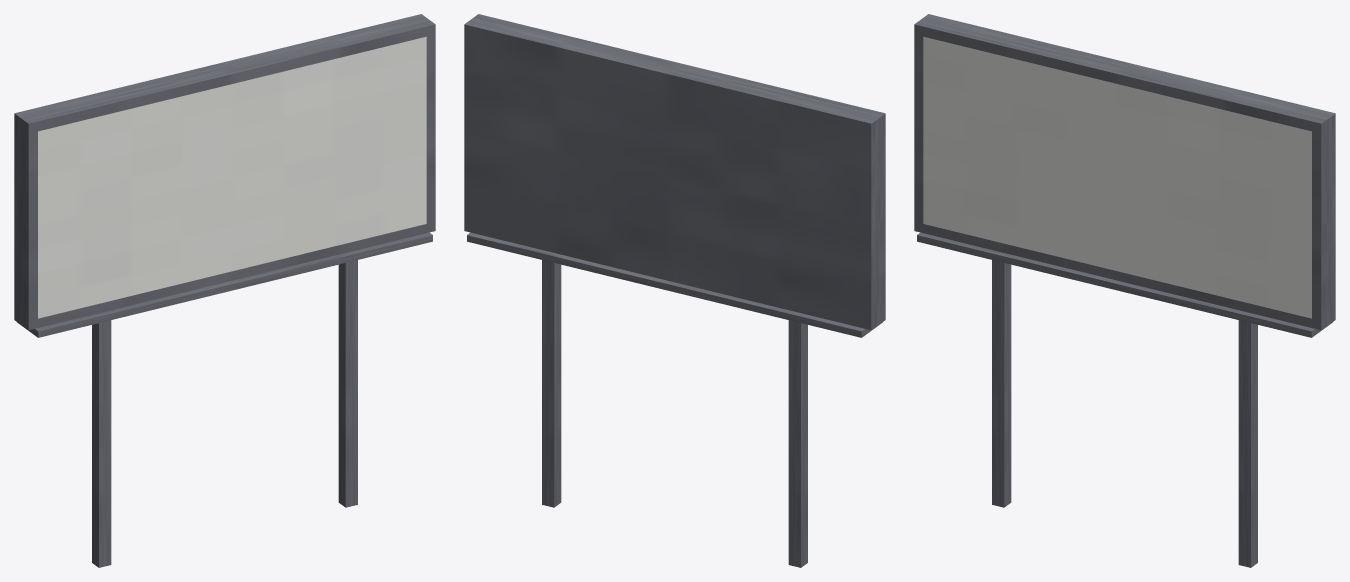
File: billboard-cream-far.glb
The picture shows the model from 3 angles, left to right: view 1: azimuth 30°, elevation 25°; view 2: azimuth 150°, elevation 25°; view 3: azimuth 330°, elevation 25°; orthographic projection.
Visible parts, largest first — view 1: sign_1, billboard-cream-far; view 2: billboard-cream-far; view 3: sign_1, billboard-cream-far.
Part boxes in pixels (left/top/right/bottom): sign_1: left=38, top=36, right=426, bottom=318; billboard-cream-far: left=14, top=14, right=435, bottom=567; billboard-cream-far: left=464, top=14, right=885, bottom=567; sign_1: left=923, top=36, right=1311, bottom=318; billboard-cream-far: left=914, top=14, right=1335, bottom=567.
Bounding box in the file's own units: 6.6 × 7.2 × 0.5999.
1 material, 1 textured.
